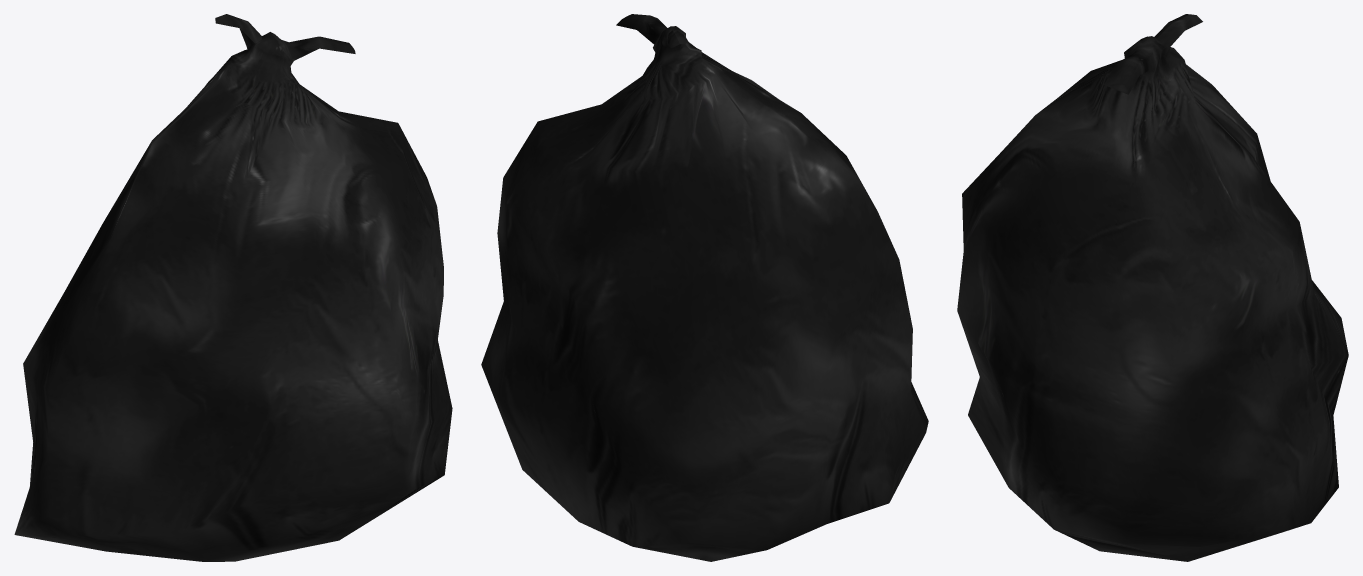
File: transh.glb
3 views of the same model, side by side, from view 1: azimuth 30°, elevation 25°; view 2: azimuth 150°, elevation 25°; view 3: azimuth 270°, elevation 25° (orthographic). The views are drawn at different scales.
Parts seen in each view (by area): view 1: Garbage Bag obj; view 2: Garbage Bag obj; view 3: Garbage Bag obj.
Boxes of the visible parts, box(x1,y1,x2,y2) form: Garbage Bag obj: box(14, 14, 452, 561); Garbage Bag obj: box(481, 14, 928, 561); Garbage Bag obj: box(957, 14, 1348, 561).
Size of the model in its own units: 2.62 by 3.12 by 2.11.
1 material, 1 textured.
